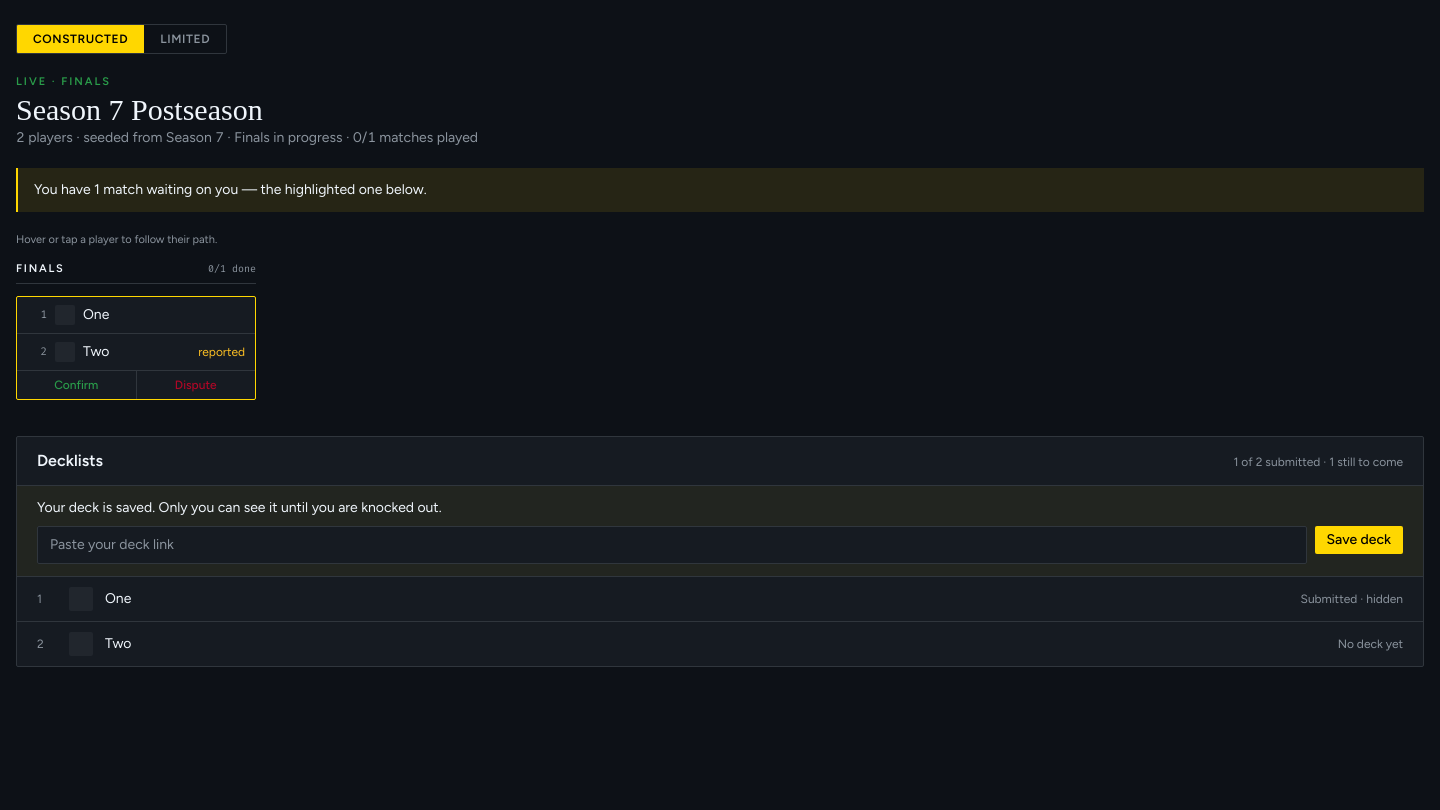
Test: Bracket page › confirms an opponent’s report
The image size is (1440, 810).
Click the button "Confirm": coordinates (76, 385) [17,371,136,399]
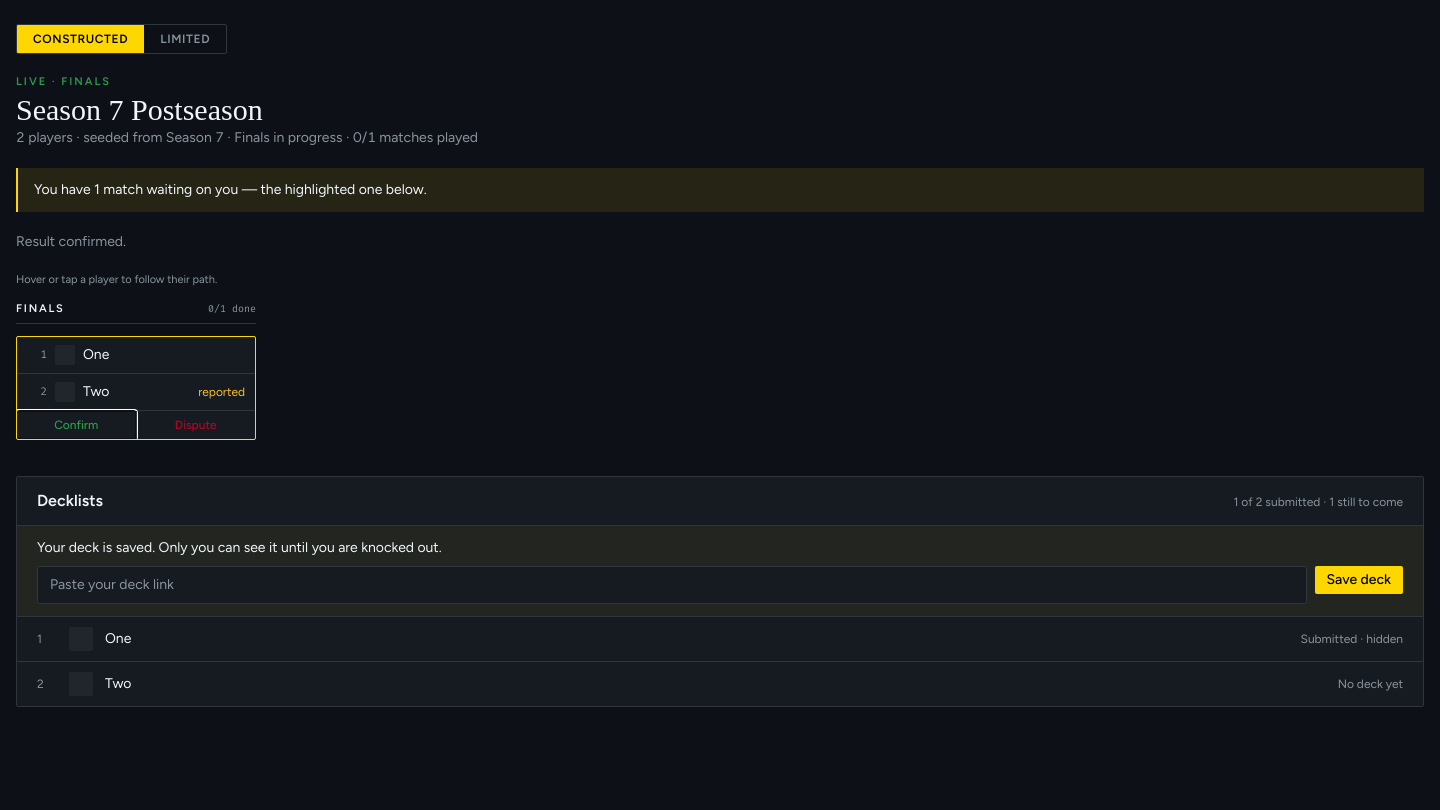
Now the text "Result confirmed." is shown, box [16,233,126,250]
